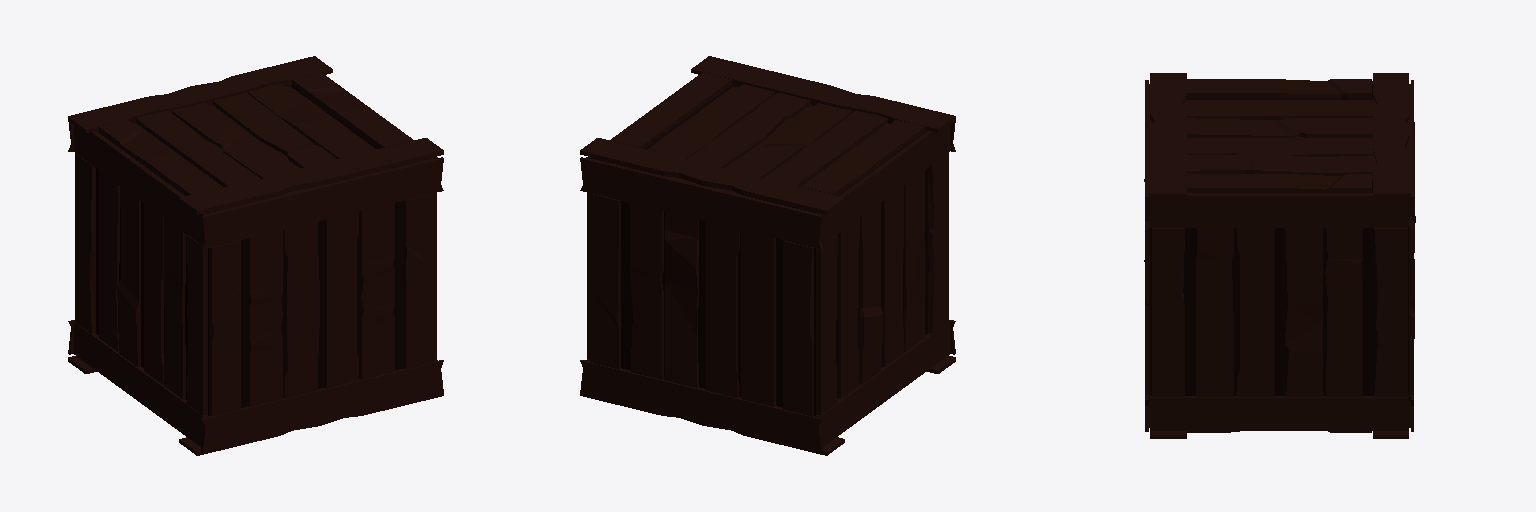
The model's file is Crate.obj.
3 views of the same model, side by side, from view 1: azimuth 30°, elevation 25°; view 2: azimuth 150°, elevation 25°; view 3: azimuth 270°, elevation 25° (orthographic).
Parts seen in each view (by area): view 1: Crate.001; view 2: Crate.001; view 3: Crate.001.
Boxes of the visible parts, x1=… form: Crate.001: x1=68, y1=56, x2=443, y2=455; Crate.001: x1=580, y1=56, x2=955, y2=455; Crate.001: x1=1144, y1=73, x2=1415, y2=438.
Bounding box in the file's own units: 1.38 × 1.31 × 1.31.